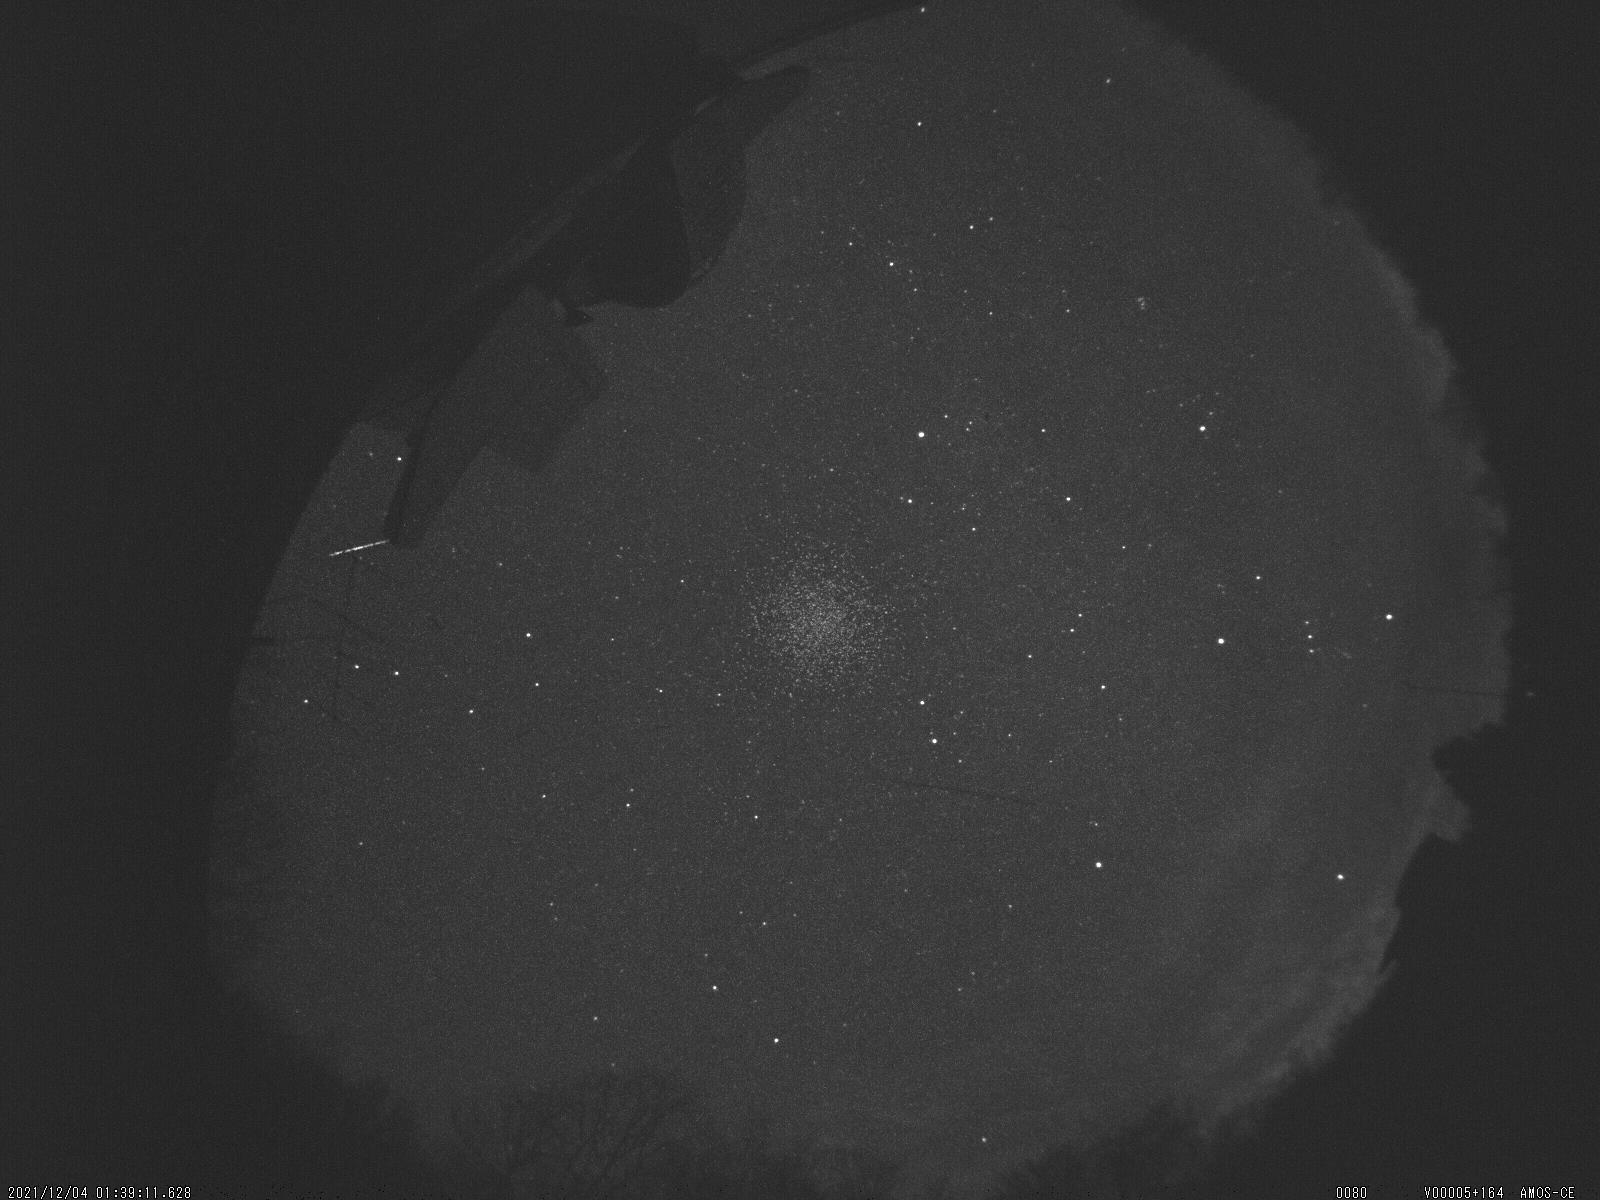Meteor: (317, 527, 406, 563)
